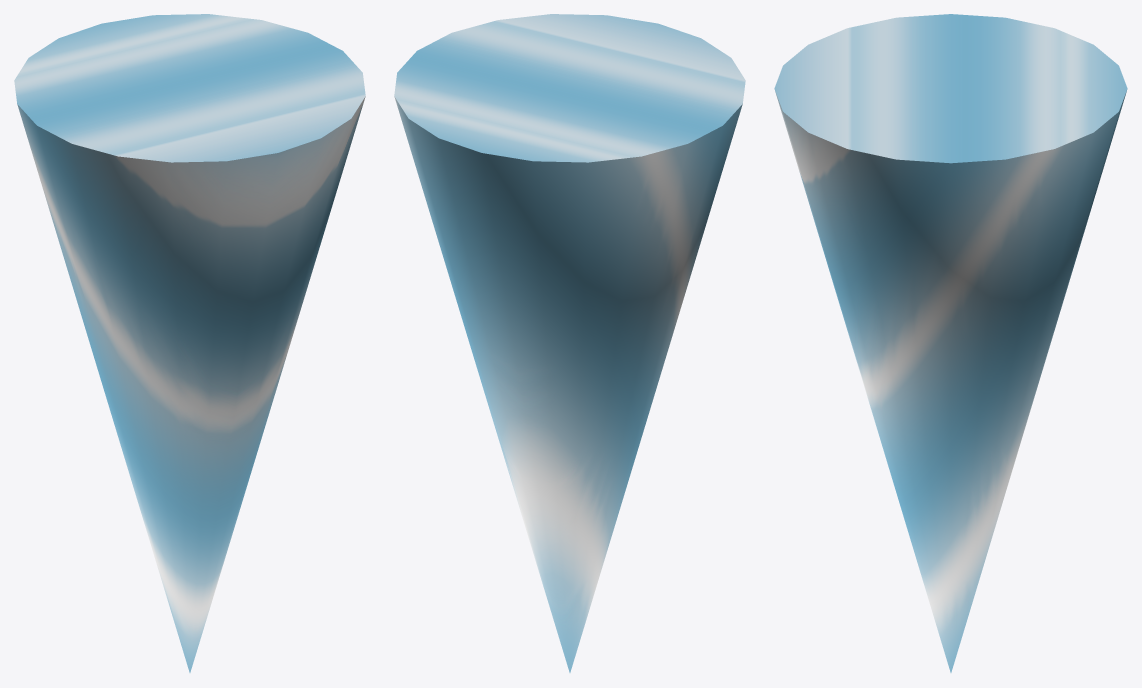
Rendered from Turara.fbx.
The picture shows the model from 3 angles, left to right: view 1: azimuth 30°, elevation 25°; view 2: azimuth 150°, elevation 25°; view 3: azimuth 270°, elevation 25°; orthographic projection.
Parts seen in each view (by area): view 1: pCone1; view 2: pCone1; view 3: pCone1.
Boxes of the visible parts, bbox=[...] form: pCone1: bbox=[14, 14, 365, 672]; pCone1: bbox=[394, 14, 745, 672]; pCone1: bbox=[774, 14, 1127, 672].
Size of the model in its own units: 5.19 by 9.49 by 5.19.
